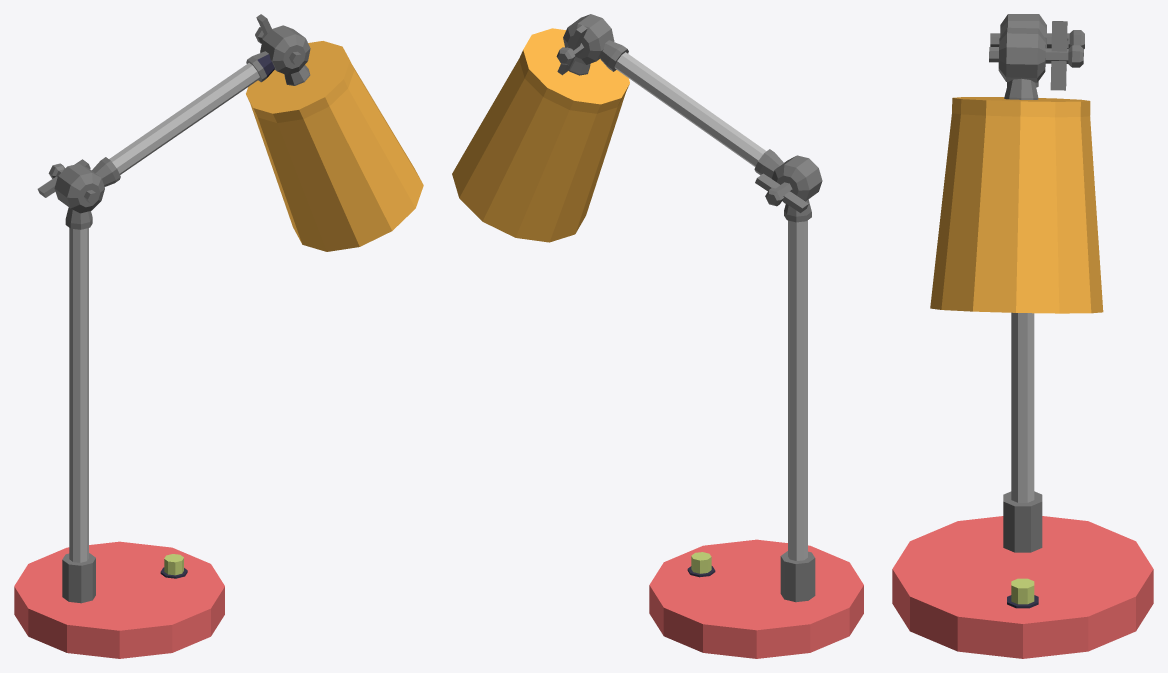
File: Desk Lamp.fbx
The picture shows the model from 3 angles, left to right: view 1: azimuth 30°, elevation 25°; view 2: azimuth 150°, elevation 25°; view 3: azimuth 270°, elevation 25°; orthographic projection. The views are drawn at different scales.
Parts seen in each view (by area): view 1: Lamp; view 2: Lamp; view 3: Lamp.
Part boxes in pixels (box(x1,y1,x2,y2)): Lamp: box(14, 14, 423, 658); Lamp: box(452, 14, 863, 658); Lamp: box(892, 14, 1153, 658).
Bounding box in the file's own units: 143 × 195 × 68.
